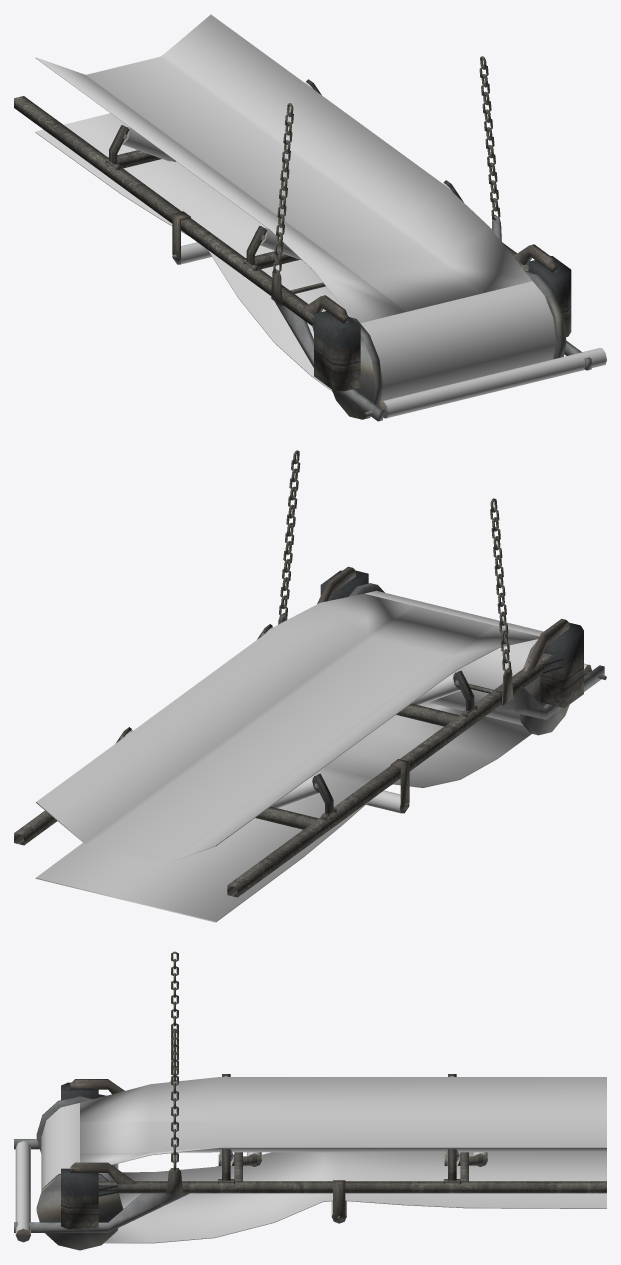
Rendered from Belt_End_NIOSH.FBX.
The picture shows the model from 3 angles, top to bottom: view 1: azimuth 30°, elevation 25°; view 2: azimuth 150°, elevation 25°; view 3: azimuth 270°, elevation 25°; orthographic projection. The views are drawn at different scales.
Parts seen in each view (by area): view 1: Mine_Conveyor_End_Mesh; view 2: Mine_Conveyor_End_Mesh; view 3: Mine_Conveyor_End_Mesh.
Boxes of the visible parts, x1,y1,x2,y2 form: Mine_Conveyor_End_Mesh: (14,14,606,421); Mine_Conveyor_End_Mesh: (14,450,606,922); Mine_Conveyor_End_Mesh: (14,951,606,1250).
Size of the model in its own units: 244 by 261 by 630.
